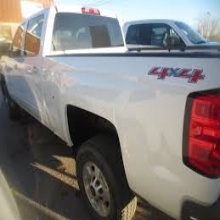no damage: (3, 5, 220, 220)
